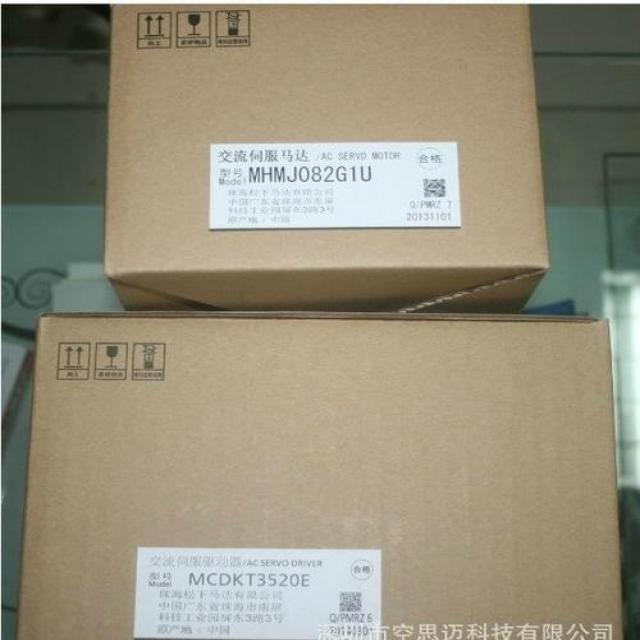box: (15, 316, 624, 638), (103, 5, 546, 316)
